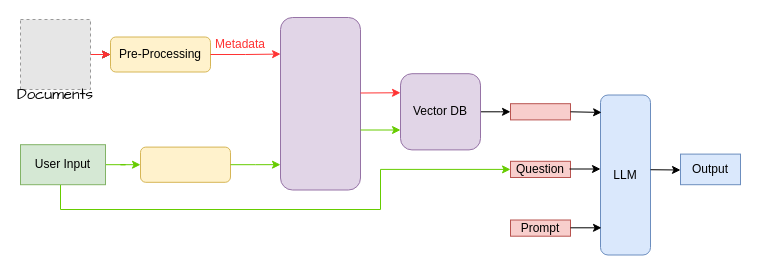
Some shapes in this 758 by 273 pixel diagram are drawn without their labels. Grey dashed boxes stand in for pictures. The shapes that lost their labels are listed below. From the top down, each one's centre as x and y in pixels, then its label:
At [320,103]: "Embedding Model".
At [540,111]: "Context".
At [185,164]: "Query Optimization".
